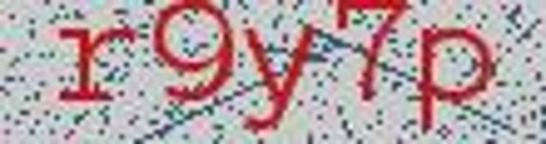7: (328, 1, 409, 104)
9: (148, 2, 238, 117)
p: (416, 22, 495, 140)
r: (48, 18, 140, 114)
y: (240, 20, 316, 133)
